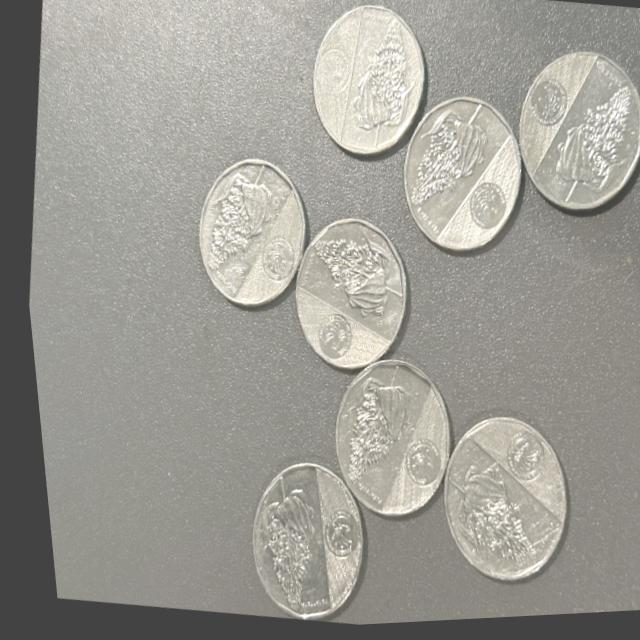10_New_Back: (518, 64, 640, 213), (398, 105, 526, 239), (229, 475, 353, 611), (176, 172, 304, 303), (327, 368, 449, 504), (433, 441, 553, 574), (303, 21, 418, 145), (290, 243, 396, 363)
